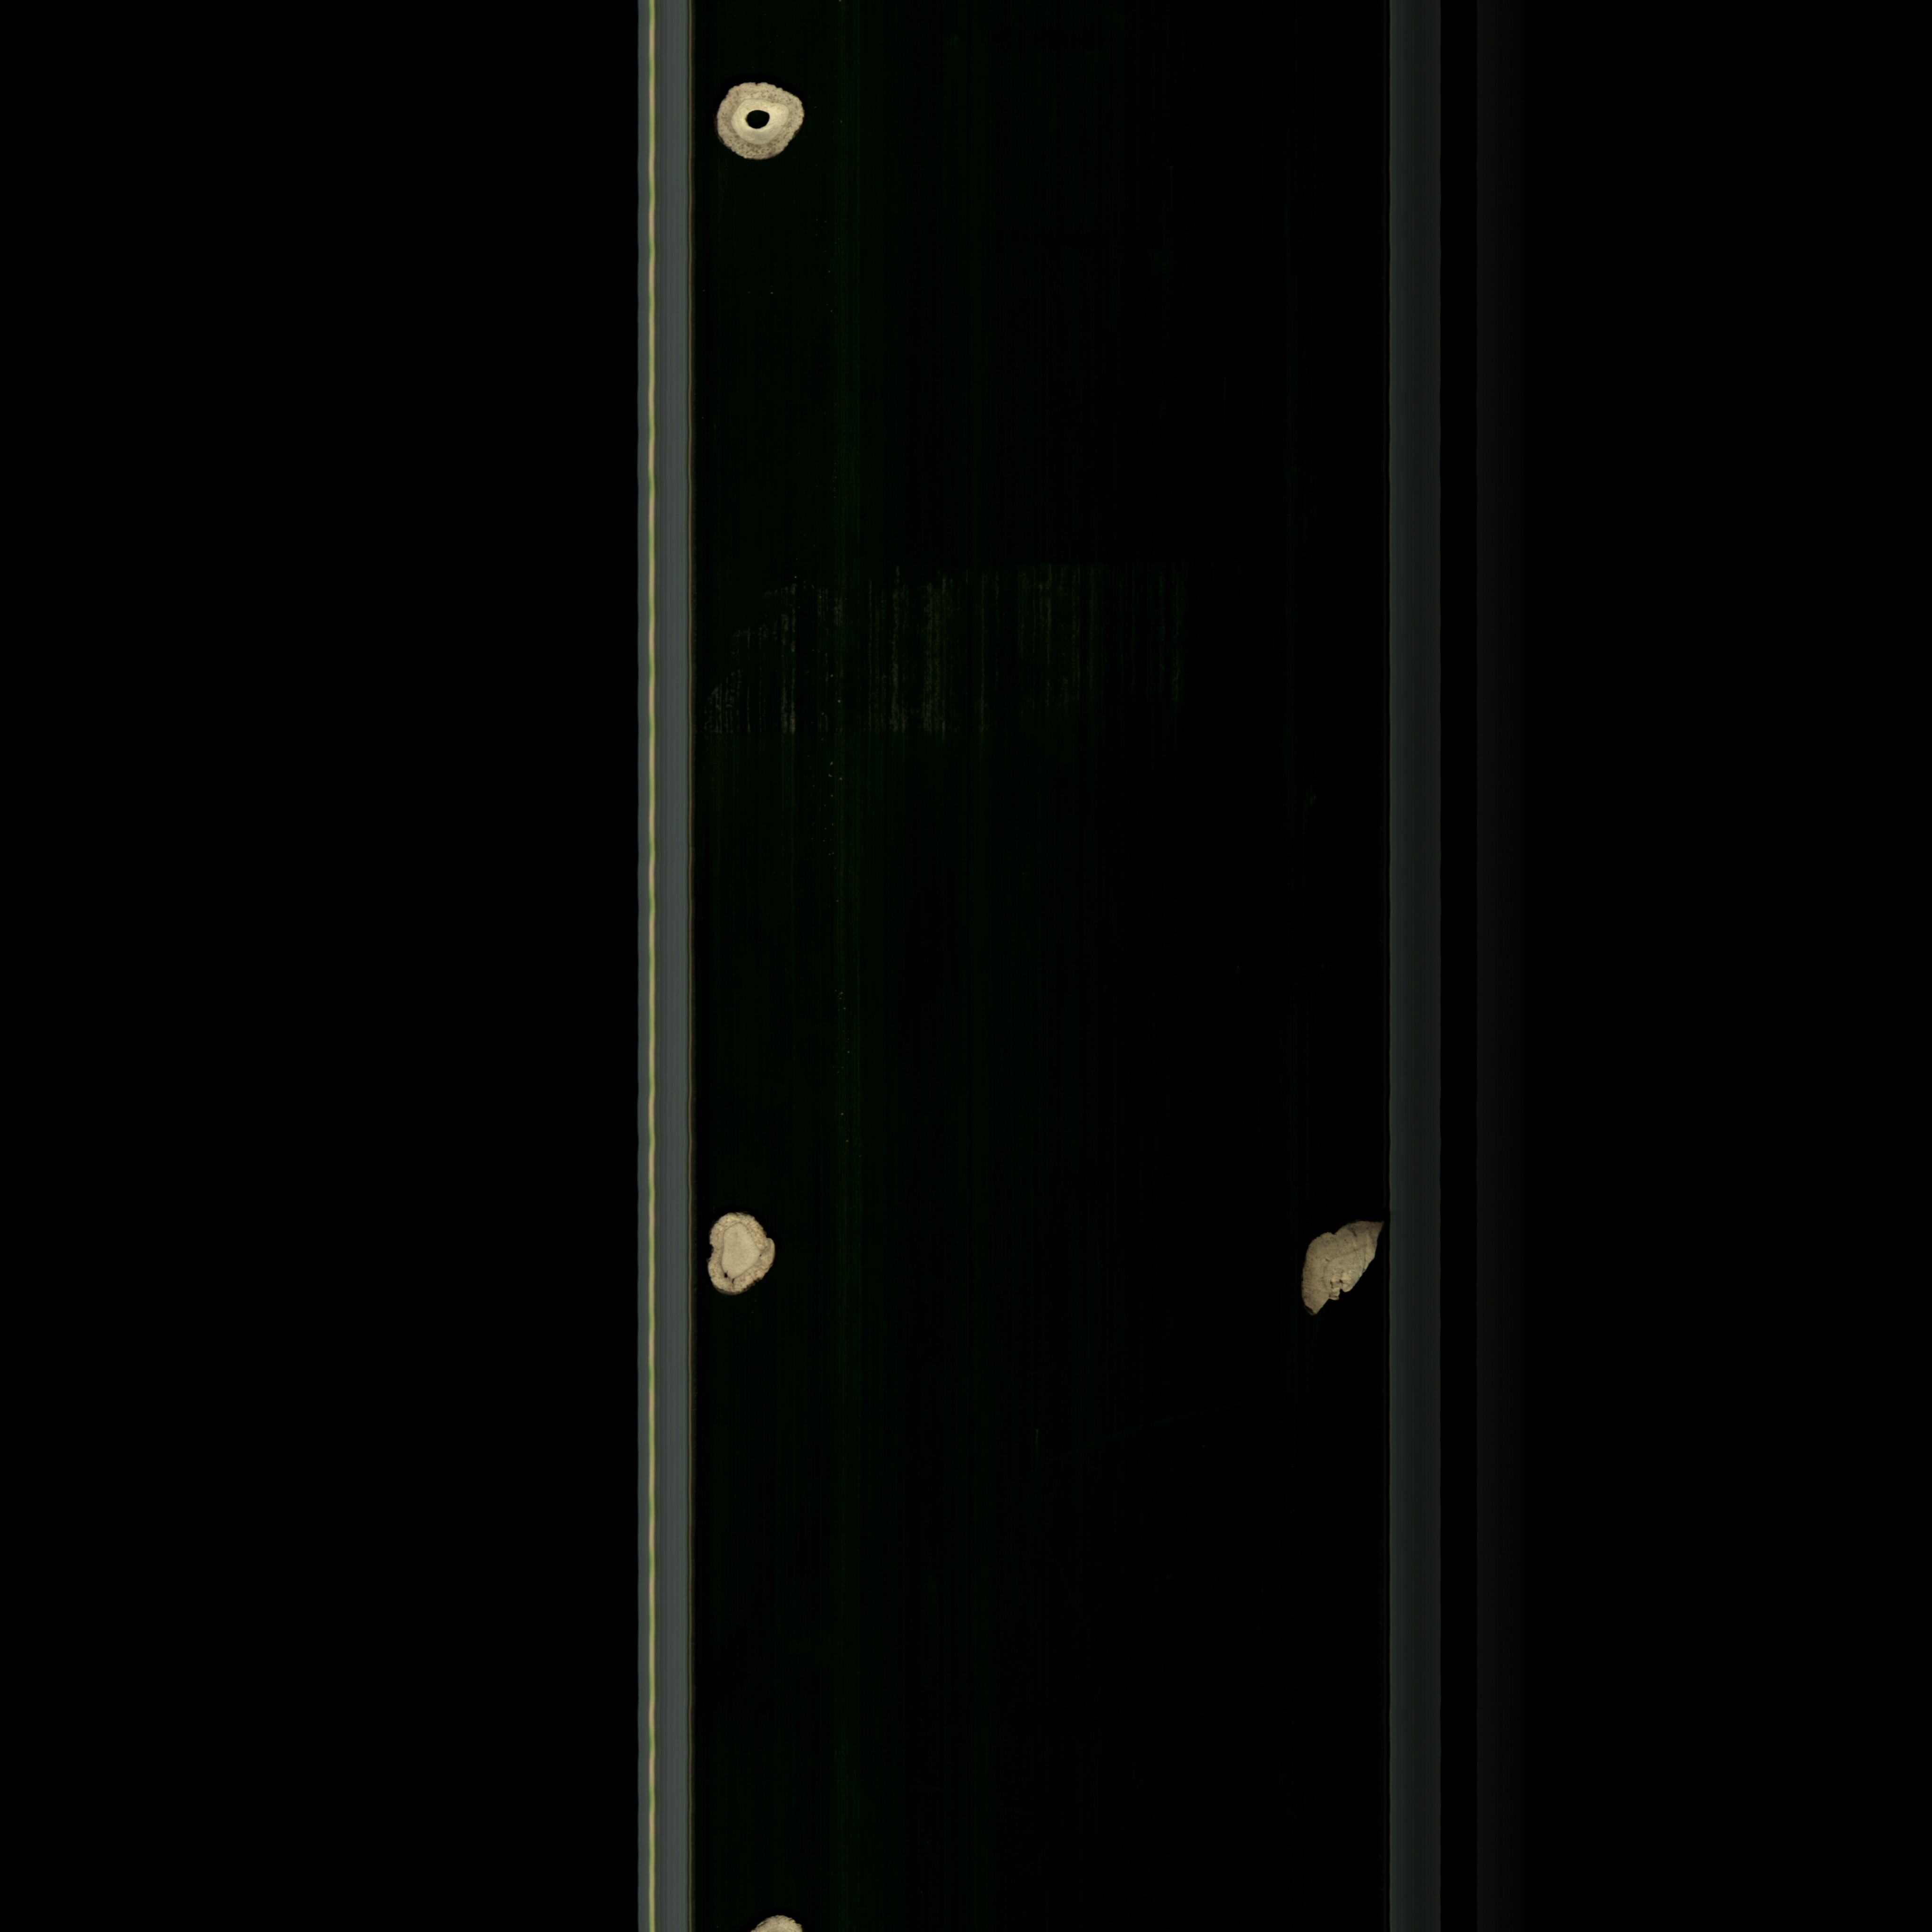debris: (1297, 1207, 1394, 1332)
hole: (711, 74, 812, 175), (701, 1205, 784, 1304)
